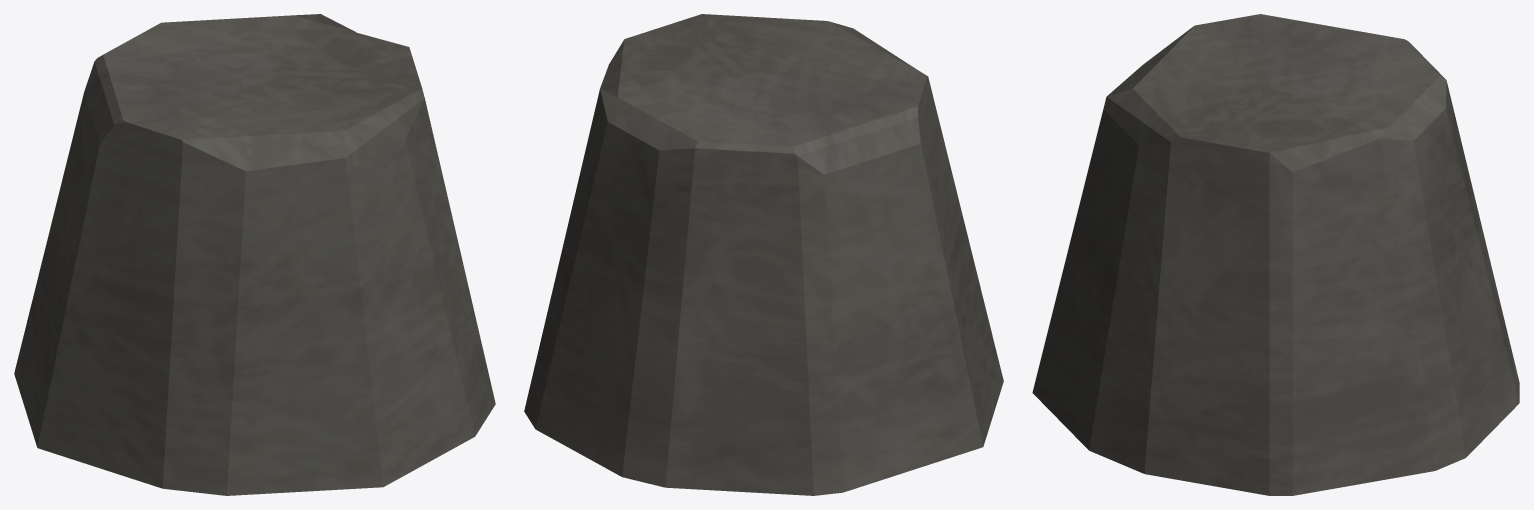
The model's file is ZachMesaRock15.fbx.
The picture shows the model from 3 angles, left to right: view 1: azimuth 30°, elevation 25°; view 2: azimuth 150°, elevation 25°; view 3: azimuth 270°, elevation 25°; orthographic projection.
Visible parts, largest first — view 1: ZachMesaRock15; view 2: ZachMesaRock15; view 3: ZachMesaRock15.
Boxes of the visible parts, left/top/right/bottom form: ZachMesaRock15: left=14, top=14, right=495, bottom=495; ZachMesaRock15: left=524, top=14, right=1003, bottom=495; ZachMesaRock15: left=1032, top=14, right=1519, bottom=495.
Bounding box in the file's own units: 2.88 × 2 × 2.85.
